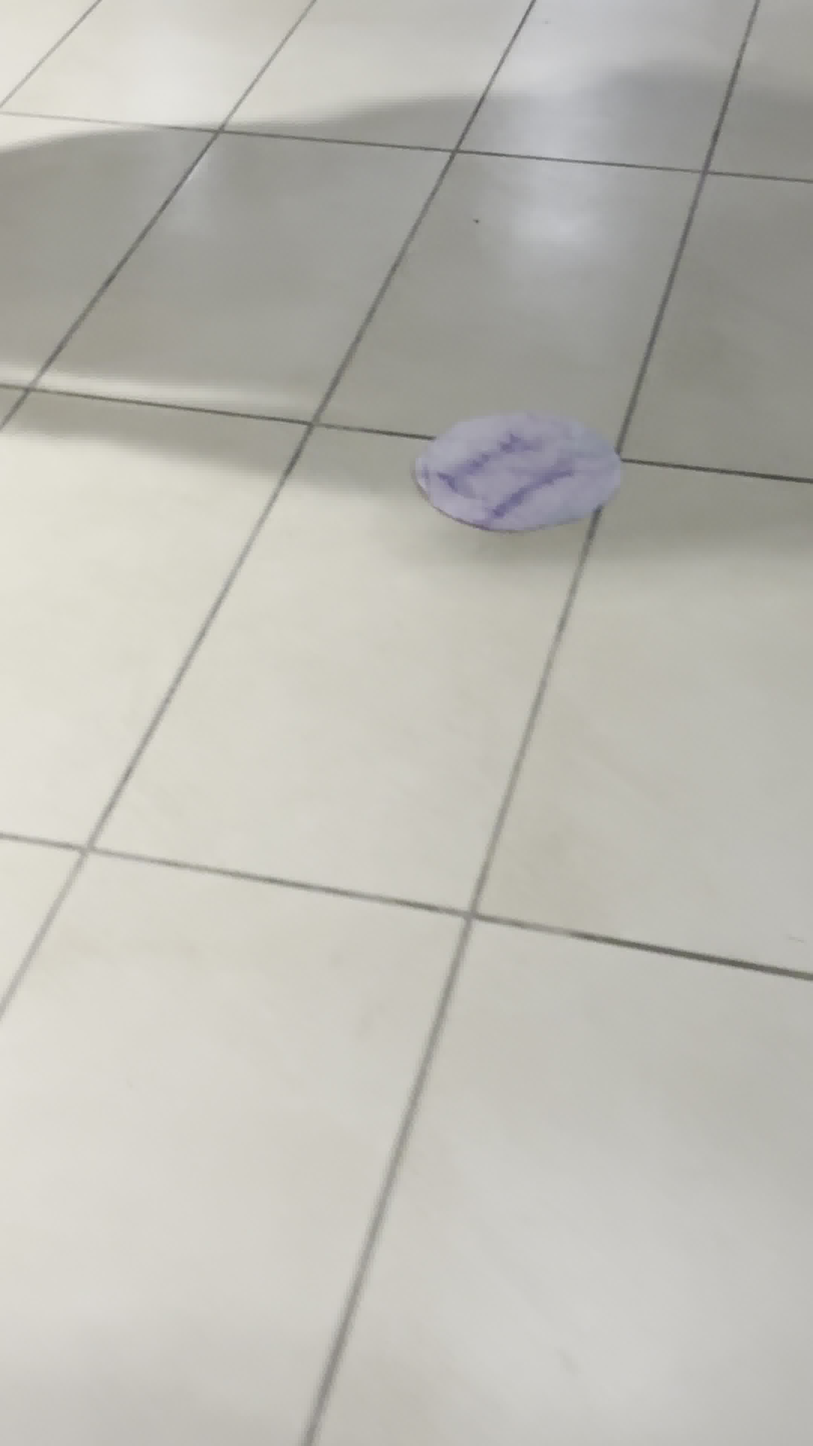Target: (414, 411, 621, 535)
